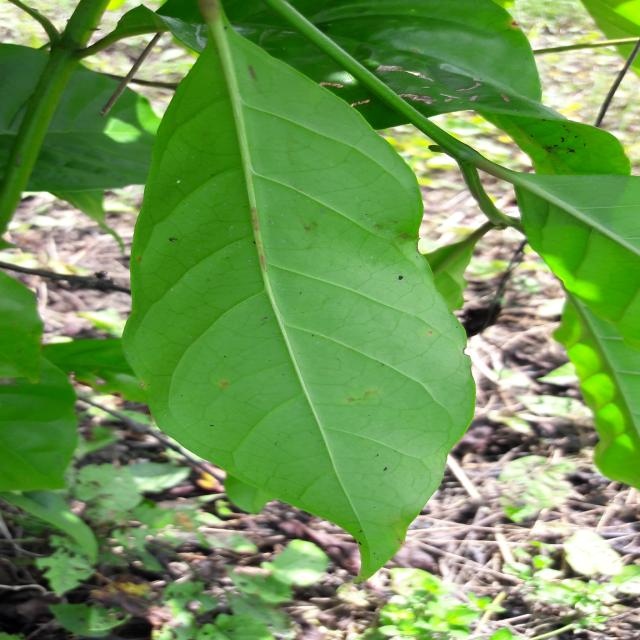Sanas: (115, 0, 477, 580)
